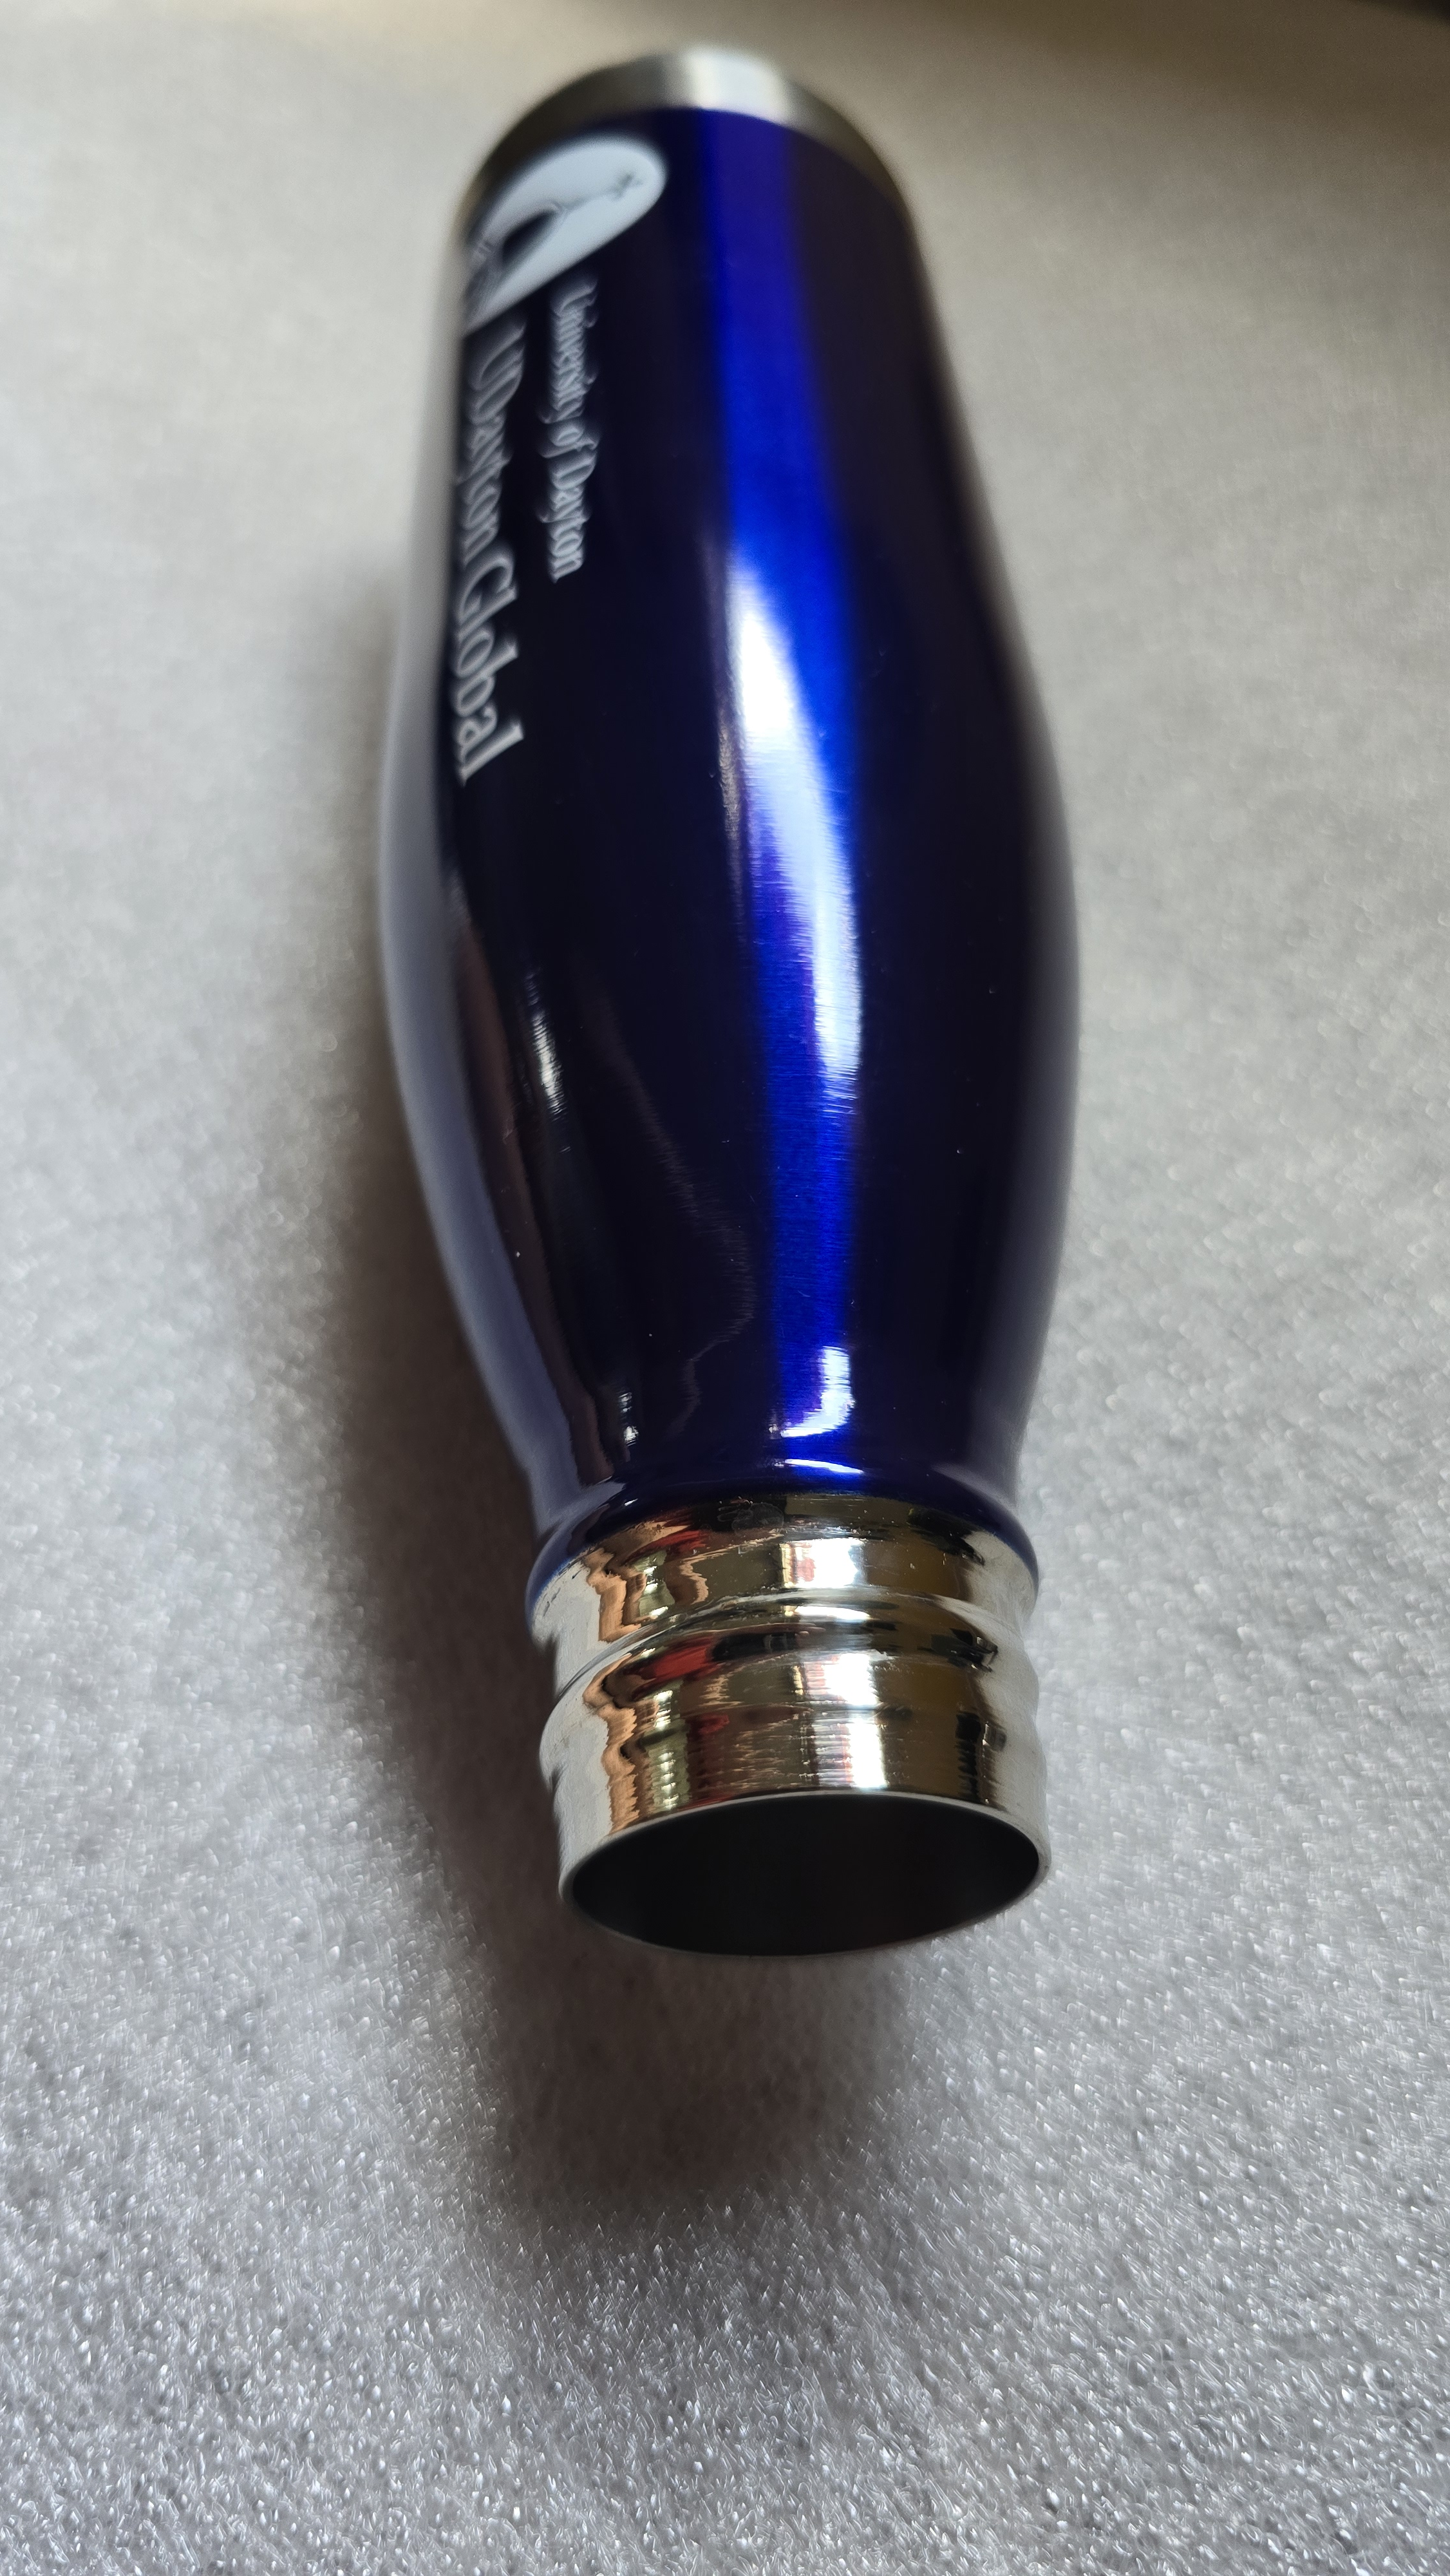bottle: (361, 44, 1142, 1999)
